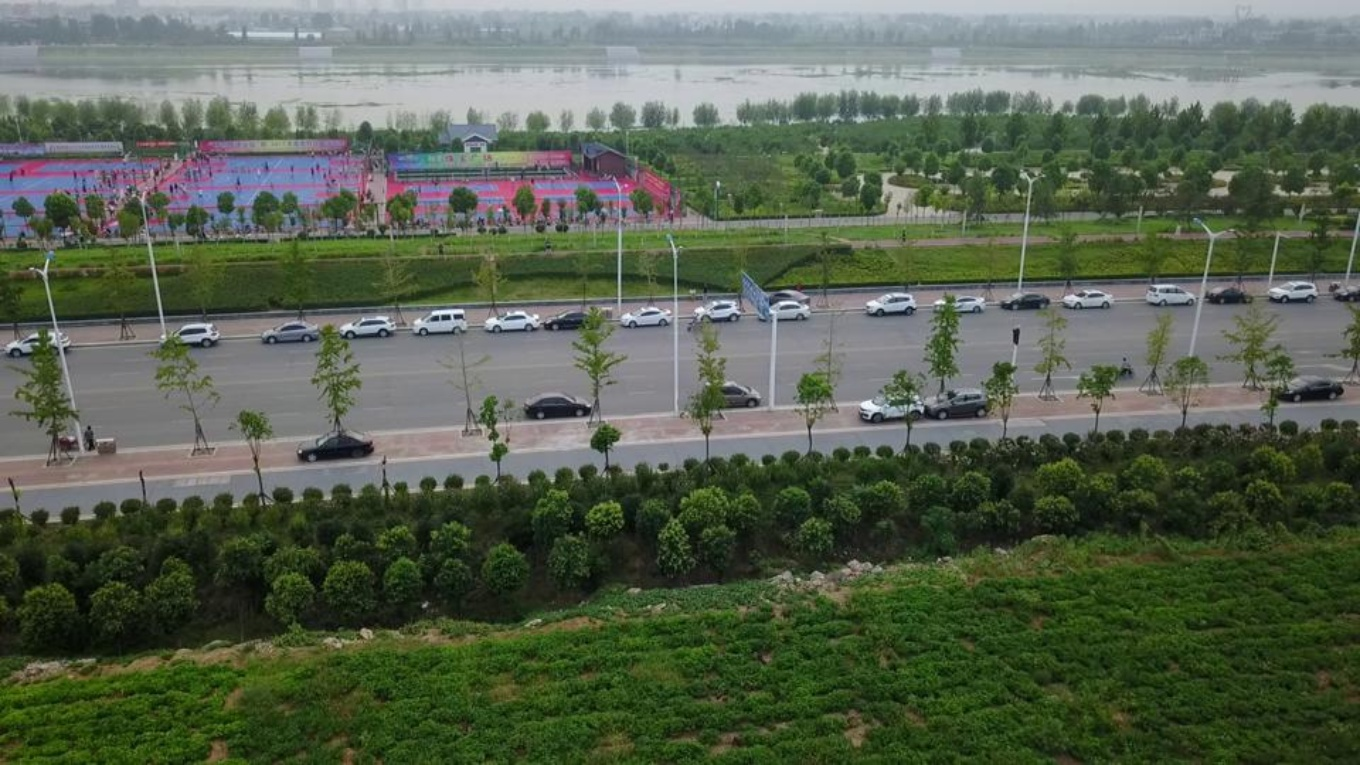car: (294, 429, 373, 461), (1270, 370, 1342, 400), (521, 390, 590, 419), (259, 318, 320, 342), (337, 314, 396, 338), (482, 308, 540, 332), (542, 307, 600, 331), (863, 291, 916, 315), (618, 304, 672, 327), (757, 300, 809, 321), (998, 290, 1050, 310), (1060, 288, 1112, 308), (931, 293, 985, 312), (761, 288, 809, 307), (1203, 286, 1253, 304), (1332, 283, 1359, 301)
ignored regions: (70, 165, 137, 216), (120, 148, 223, 181), (308, 148, 361, 192), (491, 157, 556, 188), (361, 140, 386, 212), (397, 213, 521, 227), (195, 222, 300, 237), (143, 182, 203, 202), (461, 174, 491, 212), (546, 212, 625, 226), (101, 223, 151, 243), (396, 175, 440, 195), (229, 158, 269, 177), (642, 205, 675, 226), (5, 165, 25, 185), (53, 186, 79, 198), (58, 160, 67, 171), (269, 181, 274, 189)
motor: (1111, 363, 1134, 378)
pedestrian: (82, 424, 94, 450), (542, 237, 552, 257), (700, 283, 708, 303), (436, 242, 444, 259), (794, 281, 801, 297), (535, 212, 543, 226), (899, 229, 906, 244), (1173, 222, 1180, 237), (287, 162, 294, 177), (235, 174, 240, 189)
people: (1117, 356, 1129, 373), (688, 286, 696, 301)
tricycle: (53, 433, 96, 448)
van: (920, 386, 991, 419), (2, 329, 72, 358), (856, 390, 923, 420), (699, 379, 760, 407), (157, 322, 220, 346), (410, 308, 467, 334), (1265, 278, 1316, 303), (689, 298, 740, 322), (1144, 283, 1195, 305)
